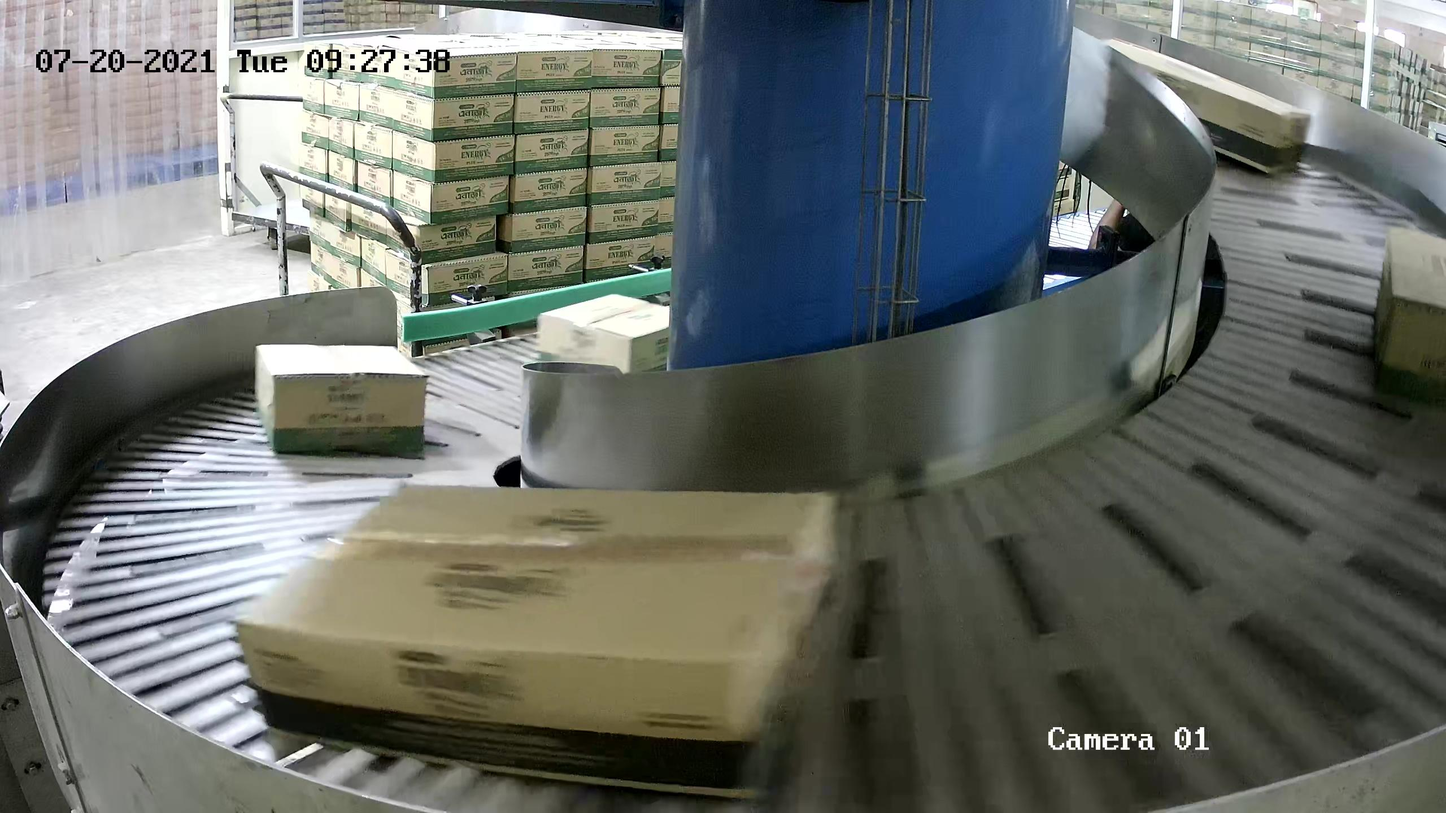Box: (232, 475, 842, 803), (1096, 36, 1314, 176), (253, 342, 431, 459), (1371, 225, 1446, 406), (534, 293, 670, 379)
